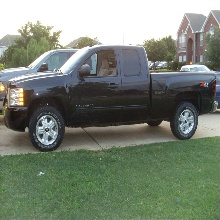no damage: (4, 45, 220, 150)
